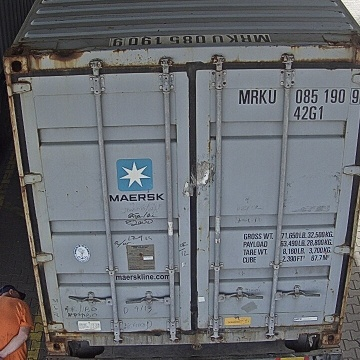serial_id: (239, 88, 360, 103)
